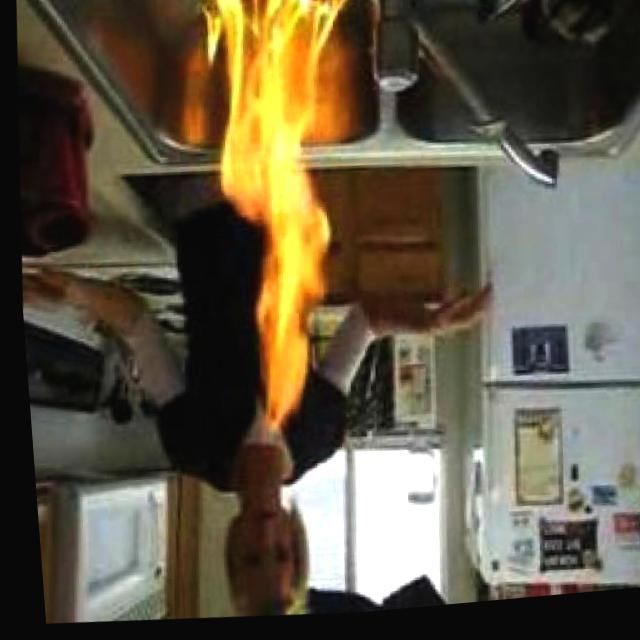Fire: (187, 0, 367, 434)
